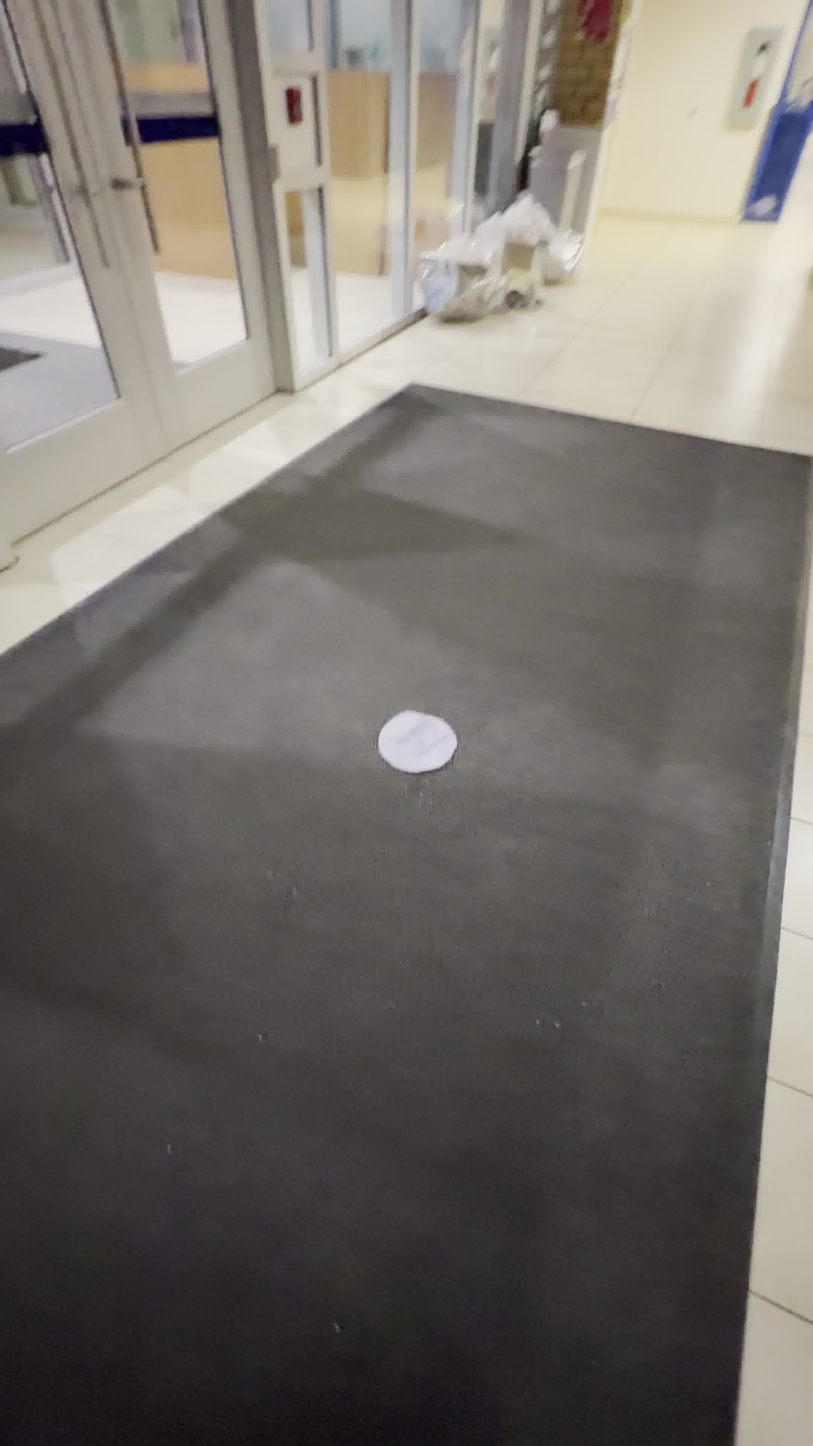Target: (378, 710, 457, 774)
